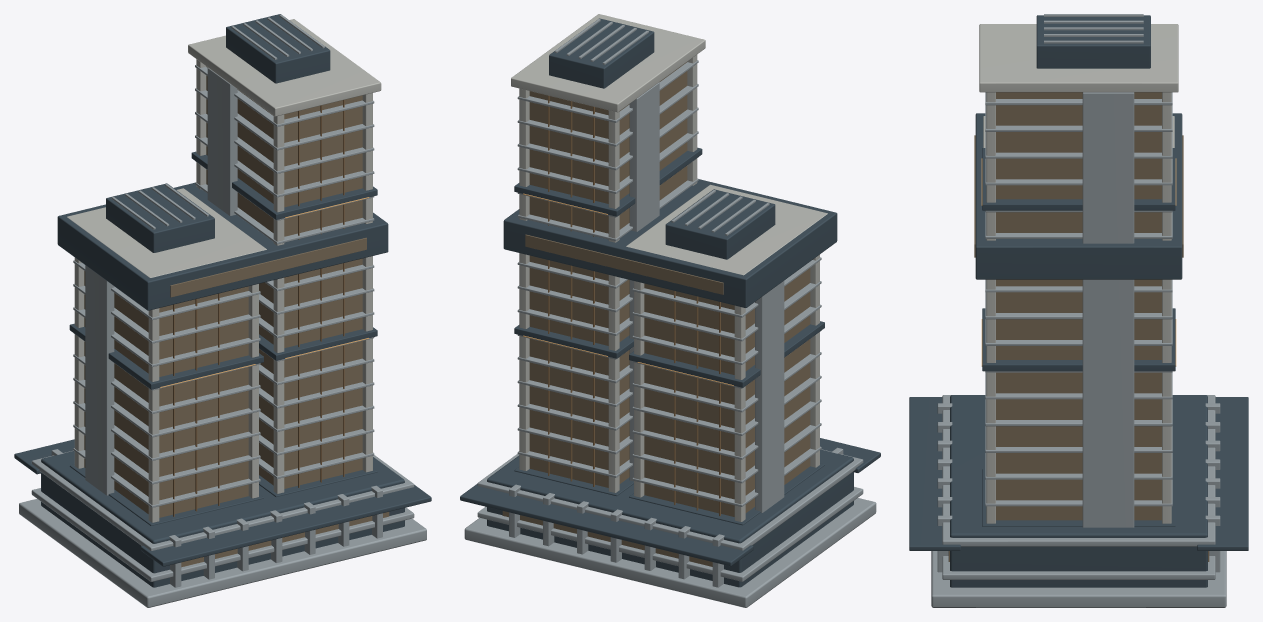
File: RiversideOffices.fbx
3 renders of one model, left to right at view 1: azimuth 30°, elevation 25°; view 2: azimuth 150°, elevation 25°; view 3: azimuth 270°, elevation 25°, orthographic. The views are drawn at different scales.
Visible parts, largest first — view 1: RiversideOffices; view 2: RiversideOffices; view 3: RiversideOffices.
Boxes of the visible parts, bbox=[...] form: RiversideOffices: bbox=[14, 14, 431, 607]; RiversideOffices: bbox=[460, 14, 880, 607]; RiversideOffices: bbox=[909, 14, 1248, 607].
Size of the model in its own units: 50 by 80.35 by 46.
